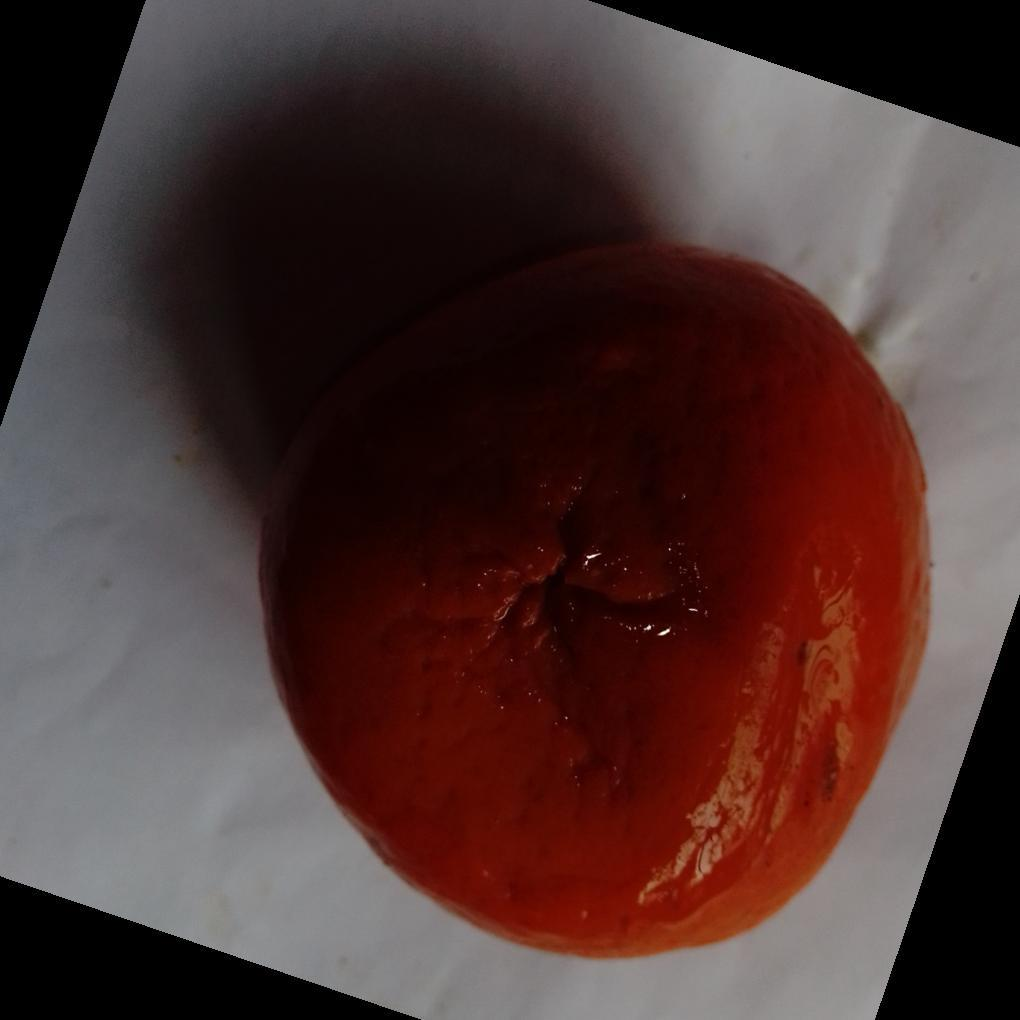FreshOrange: (255, 229, 936, 965)
